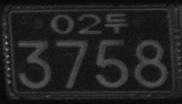0: (50, 13, 74, 35)
2: (77, 13, 103, 35)
3: (17, 39, 51, 90)
5: (95, 38, 129, 89)
7: (55, 38, 87, 89)
8: (133, 38, 168, 89)
두: (105, 12, 128, 33)
